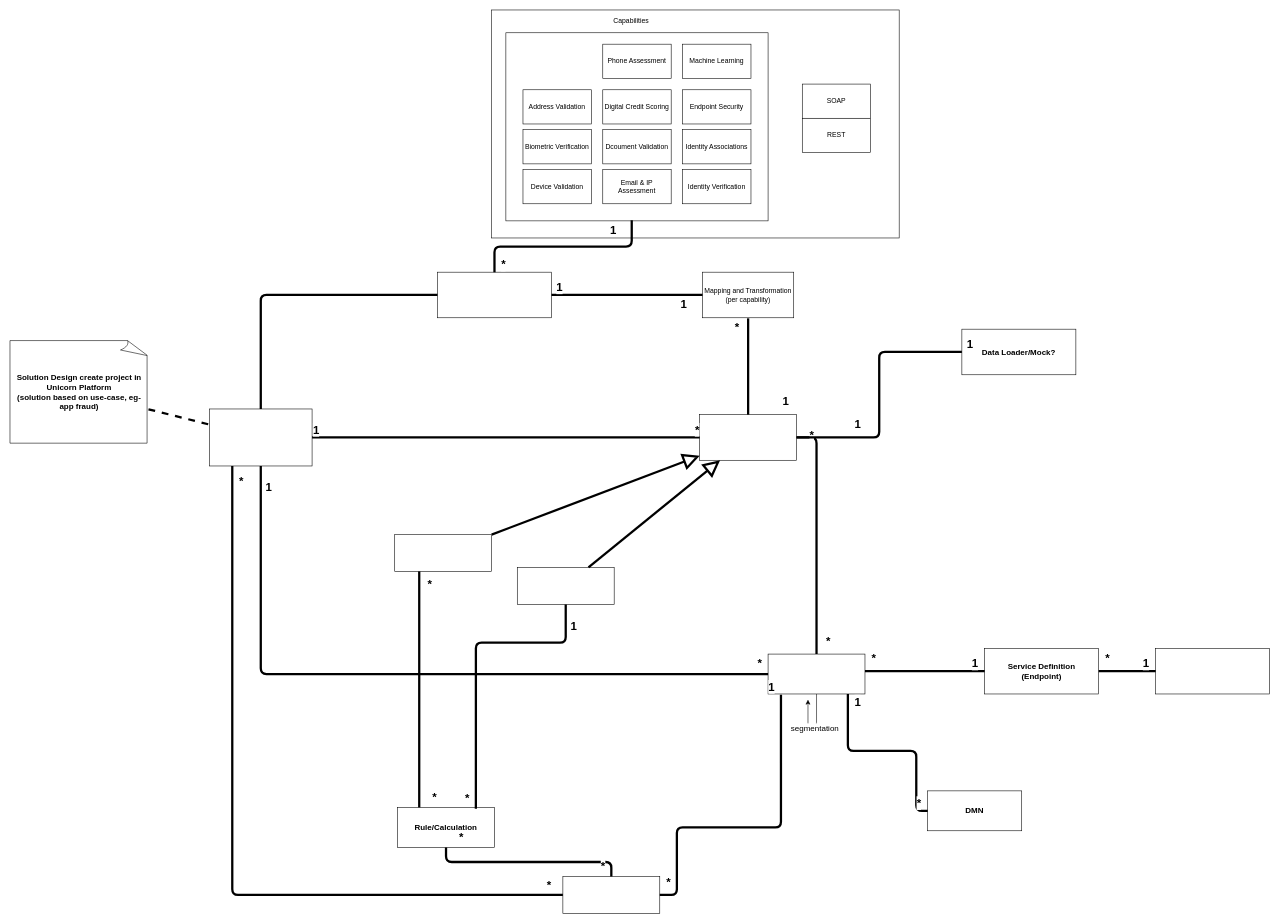
This 1280x923 diagram has some shape labels left out. Each missing label, with the box of its shape:
Application Model: (517, 567, 614, 604)
Capabilities Definition (External): (437, 272, 551, 318)
Composition: (1155, 648, 1270, 694)
Data Model: (699, 414, 797, 460)
Orchestration Flow: (768, 654, 865, 694)
Project/ Risk Solution: (209, 408, 312, 466)
Reference: (394, 534, 492, 571)
Ruleset: (562, 876, 660, 913)
